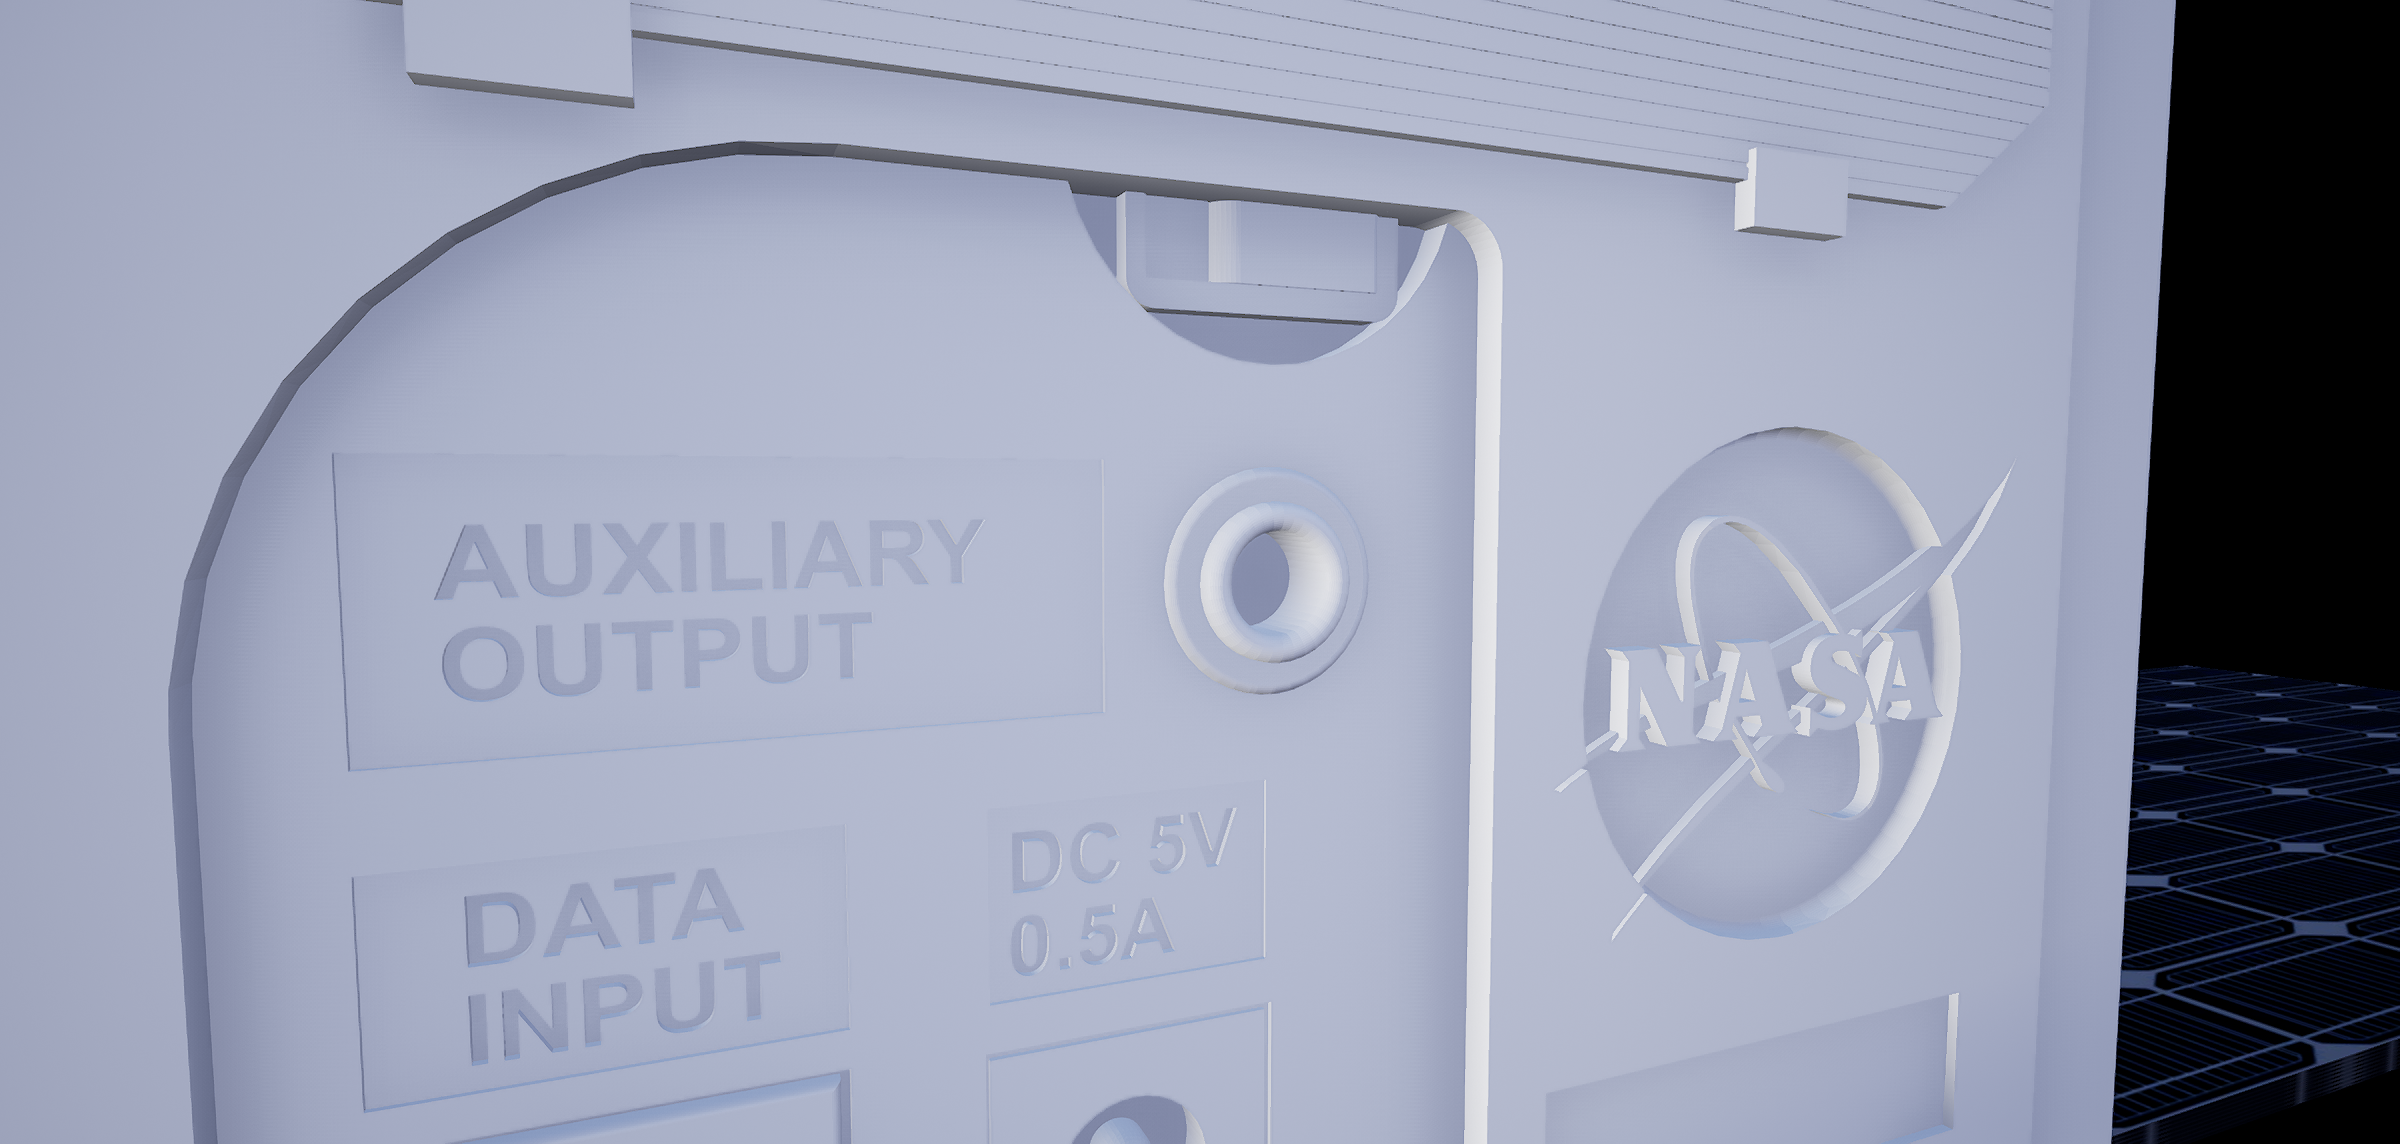aux: (1149, 461, 1393, 720)
dc: (1053, 1087, 1218, 1144)
